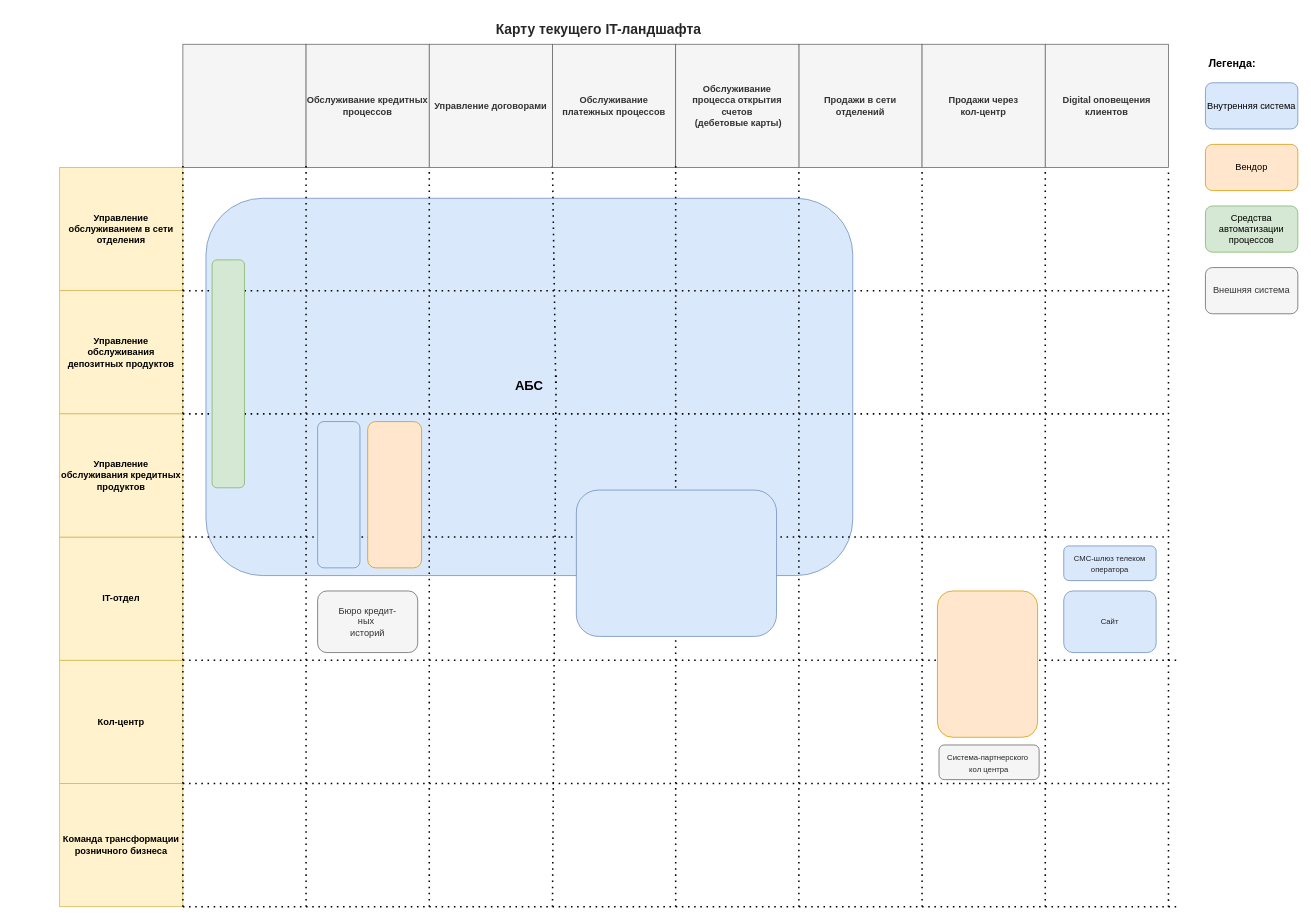
The diagram is 1311 pixels wide and 922 high, and some of its shapes have lost their labels. The centre of each missing label's shape, as x and y in pixels:
"Email + Exel" goes at point 227,373.
"Интернет банк ДБО" goes at point 676,562.
"Кредитный конвейер" goes at point 394,494.
"Обслуживание депозитных процессов" goes at point 244,105.
"Система кол-центра (CRM)" goes at point 987,663.
"Система скоринга" goes at point 338,494.
